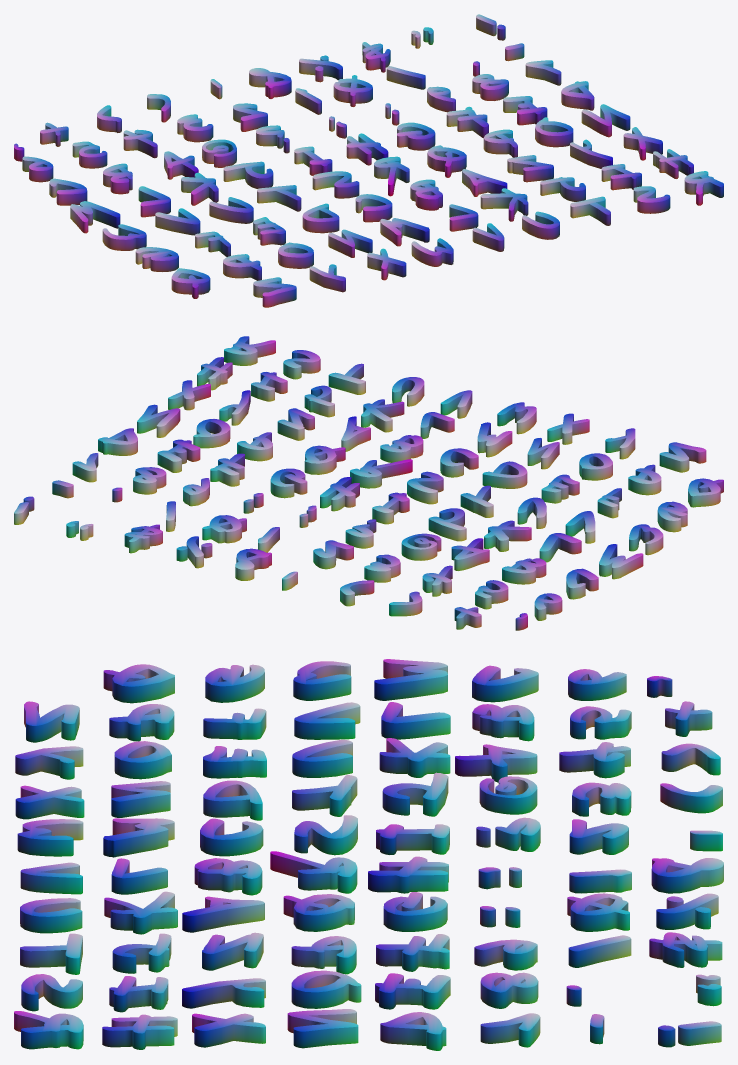
The model's file is FreshMarker-Tatting.fbx.
3 renders of one model, top to bottom at view 1: azimuth 30°, elevation 25°; view 2: azimuth 150°, elevation 25°; view 3: azimuth 270°, elevation 25°, orthographic. The views are drawn at different scales.
Parts seen in each view (by area): view 1: M, J, N, z, S, k, m, G, &, Q, q, Z (+59 smaller); view 2: R, r, z, M, 0, k, J, N, Q, d, K, H (+57 smaller); view 3: M, N, H, R, m, Q, O, r, q, h, k, w (+64 smaller).
Part boxes in pixels (box(x1,y1,x2,y2)): M: box(70, 201, 120, 233); J: box(223, 161, 273, 188); N: box(581, 104, 630, 137); z: box(253, 277, 296, 307); S: box(312, 171, 359, 198); k: box(480, 188, 528, 221); m: box(380, 218, 429, 246); G: box(397, 122, 435, 150); &: box(249, 68, 291, 98); Q: box(427, 145, 466, 177); q: box(171, 268, 210, 298); Z: box(507, 155, 553, 182); R: box(350, 459, 412, 488); r: box(224, 336, 275, 365); z: box(659, 442, 706, 472); M: box(599, 544, 643, 579); 0: box(202, 515, 246, 543); k: box(361, 399, 404, 432); J: box(428, 508, 466, 541); N: box(137, 404, 180, 437); Q: box(304, 445, 345, 474); d: box(482, 461, 527, 488); K: box(484, 520, 531, 551); H: box(320, 477, 359, 511); M: box(374, 659, 447, 700); N: box(287, 1009, 358, 1048); H: box(368, 856, 448, 893); R: box(270, 851, 357, 893); m: box(103, 818, 174, 857); Q: box(283, 894, 354, 931); O: box(291, 970, 361, 1008); r: box(14, 1011, 83, 1049); q: box(103, 664, 174, 703); h: box(102, 1014, 177, 1049); k: box(104, 891, 177, 934); w: box(17, 819, 83, 856).
Size of the model in its own units: 976 by 20 by 780.
